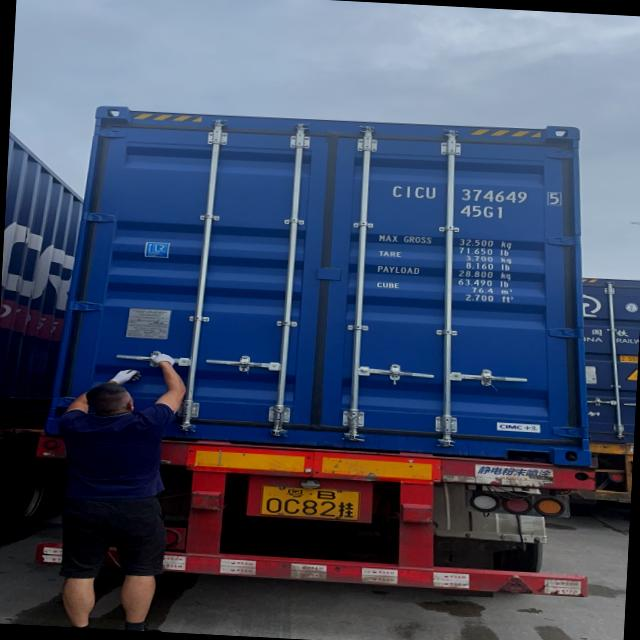seal: (388, 360, 404, 390)
